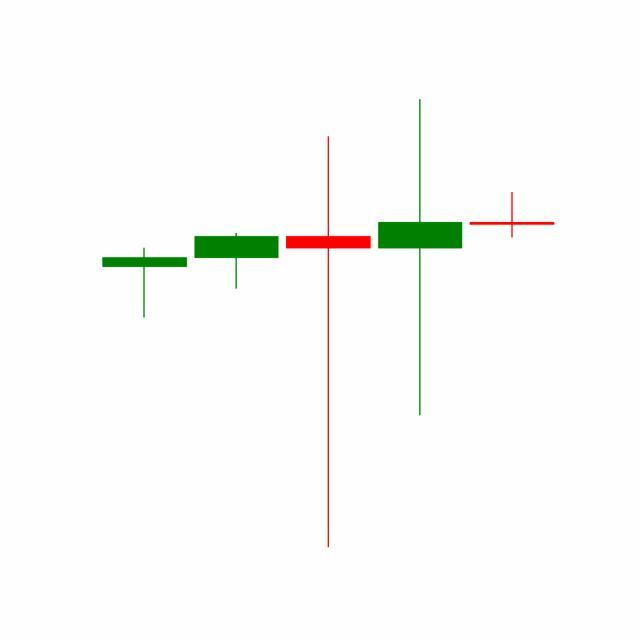Gravestone Doji: (466, 192, 559, 240)
